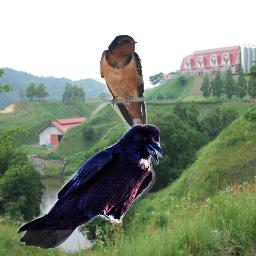Crow: (17, 124, 163, 250)
Swallow: (99, 34, 151, 151)
